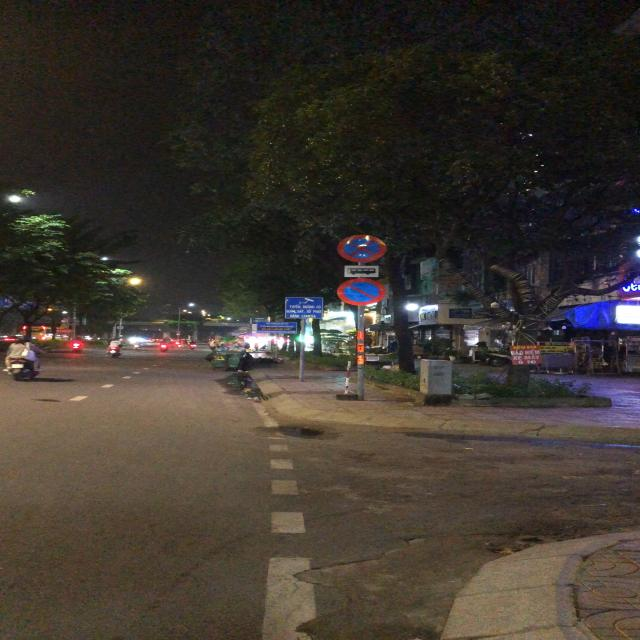Bien bao cam do xe: (329, 276, 384, 307)
Bien bao cam dung xe va do xe: (333, 232, 408, 264)
